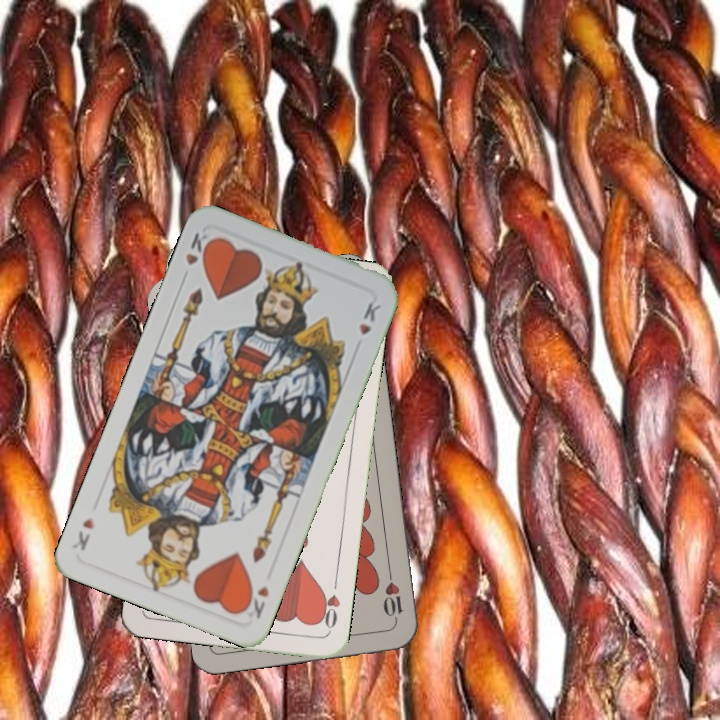H10: (379, 566, 406, 625)
HK: (181, 227, 215, 268), (239, 581, 272, 622)
HO: (315, 575, 343, 634)
